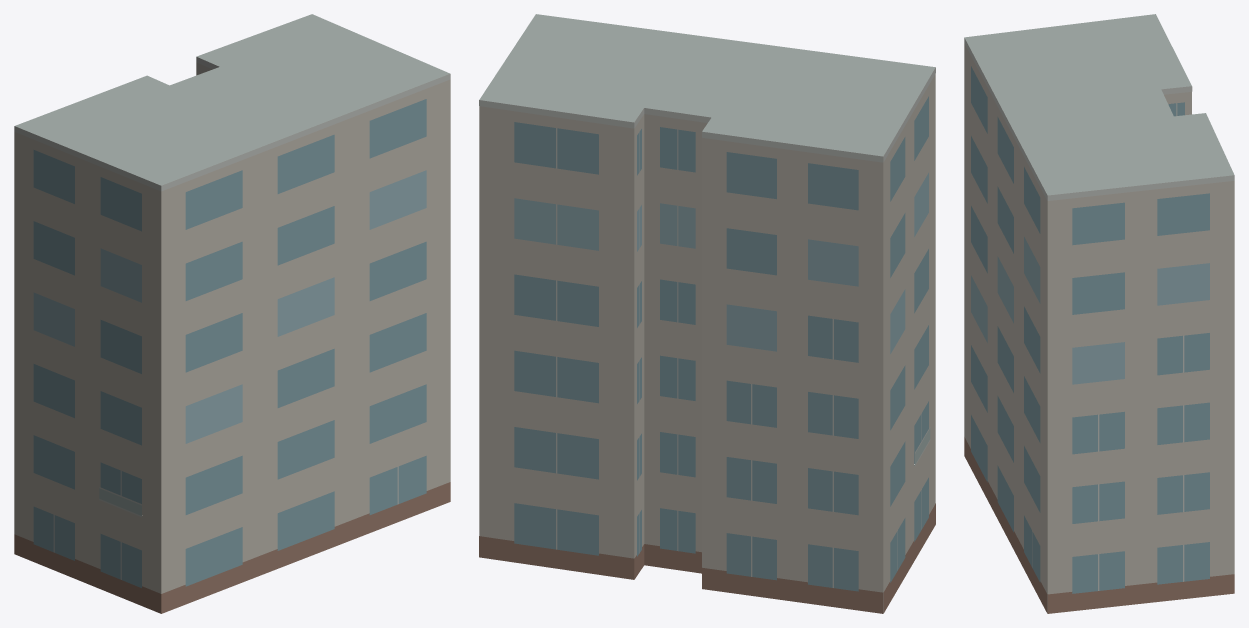
The model's file is survey-upis-32931533.glb.
The picture shows the model from 3 angles, left to right: view 1: azimuth 30°, elevation 25°; view 2: azimuth 150°, elevation 25°; view 3: azimuth 270°, elevation 25°; orthographic projection. The views are drawn at different scales.
Parts seen in each view (by area): view 1: survey-upis-32931533.tmp; view 2: survey-upis-32931533.tmp; view 3: survey-upis-32931533.tmp.
Boxes of the visible parts, x1,y1,x2,y2 form: survey-upis-32931533.tmp: [14, 14, 450, 613]; survey-upis-32931533.tmp: [479, 14, 935, 613]; survey-upis-32931533.tmp: [964, 14, 1234, 613].
Bounding box in the file's own units: 17.04 × 18.3 × 10.73.
